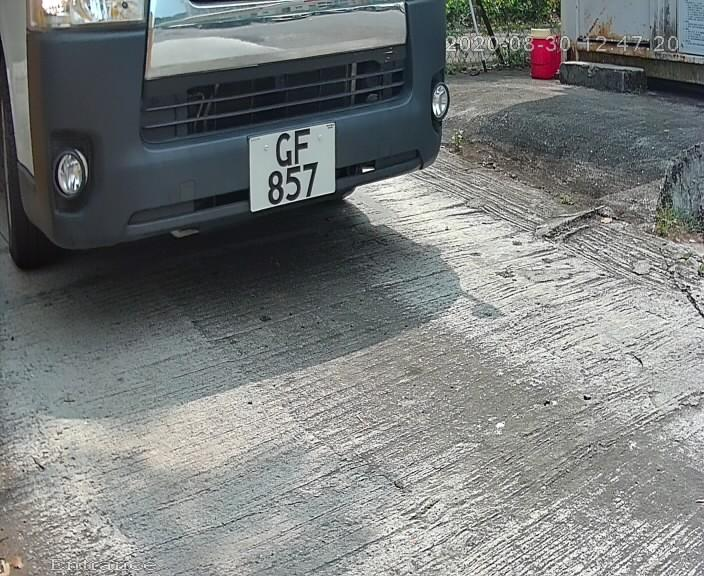License Plate: (236, 119, 343, 219)
